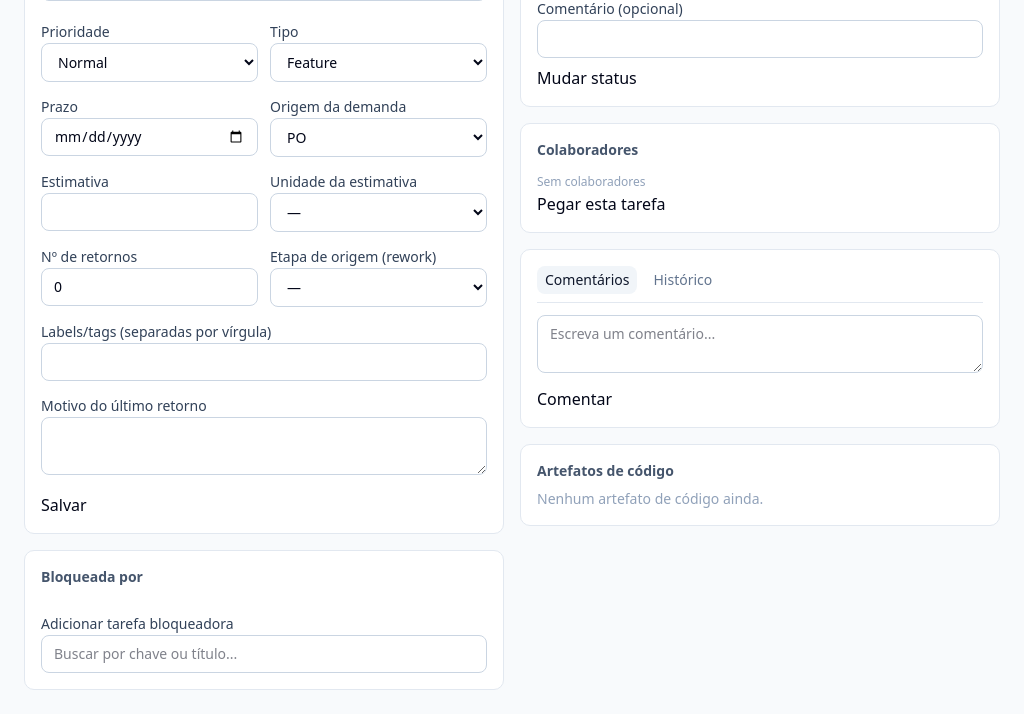
Test: Task Detail › adds and removes a blocking task without changing status or version
This screenshot has width=1024, height=714.
(page scrolled)
Type "FAC-2" into the field labelled "Adicionar tarefa bloqueadora". click: (264, 654)
box: [41, 635, 487, 673]
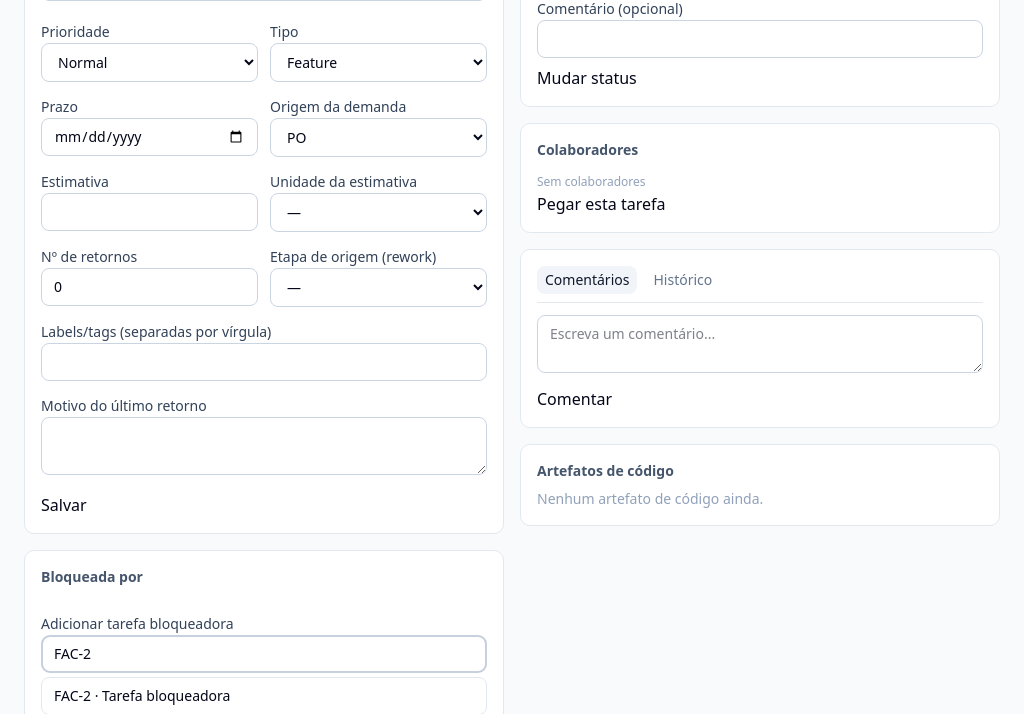
Click the button "FAC-2 · Tarefa bloqueadora". click: (73, 696)
box: [42, 678, 486, 713]
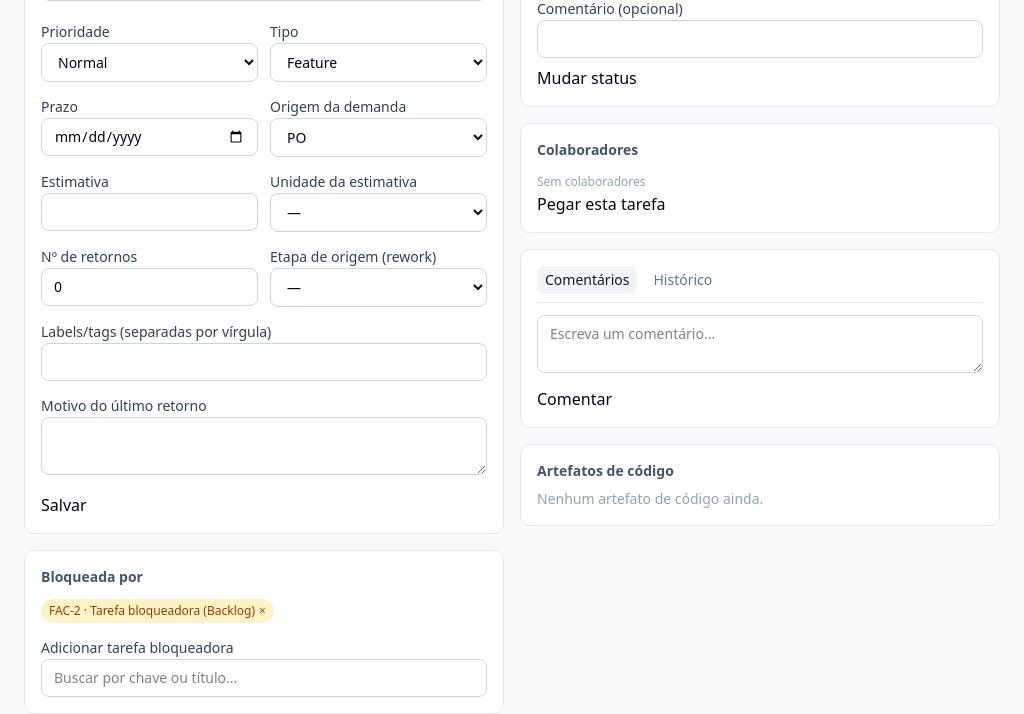
Expected: the link "FAC-2 · Tarefa bloqueadora (Backlog)" is shown, [49, 603, 255, 619]
Click the button named "Remover bloqueio FAC-2". click: (262, 611)
box: [259, 603, 266, 619]
(page scrolled)
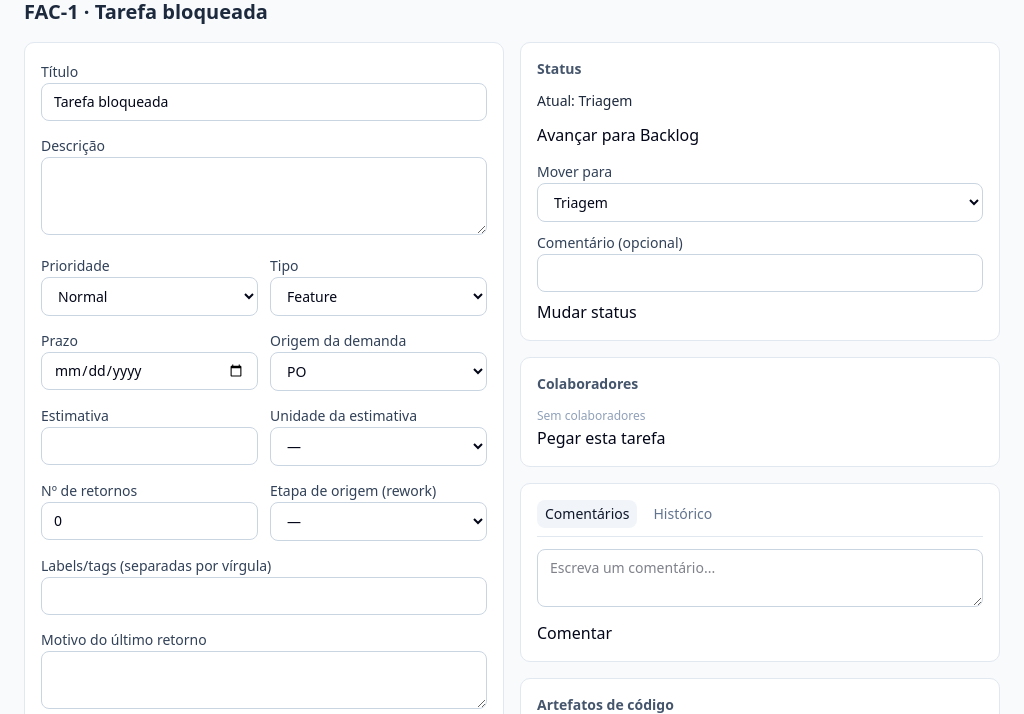
Expected: the text "Atual: Triagem" is shown, [537, 91, 632, 110]
Expected: the link "FAC-2 · Tarefa bloqueadora" is gone
